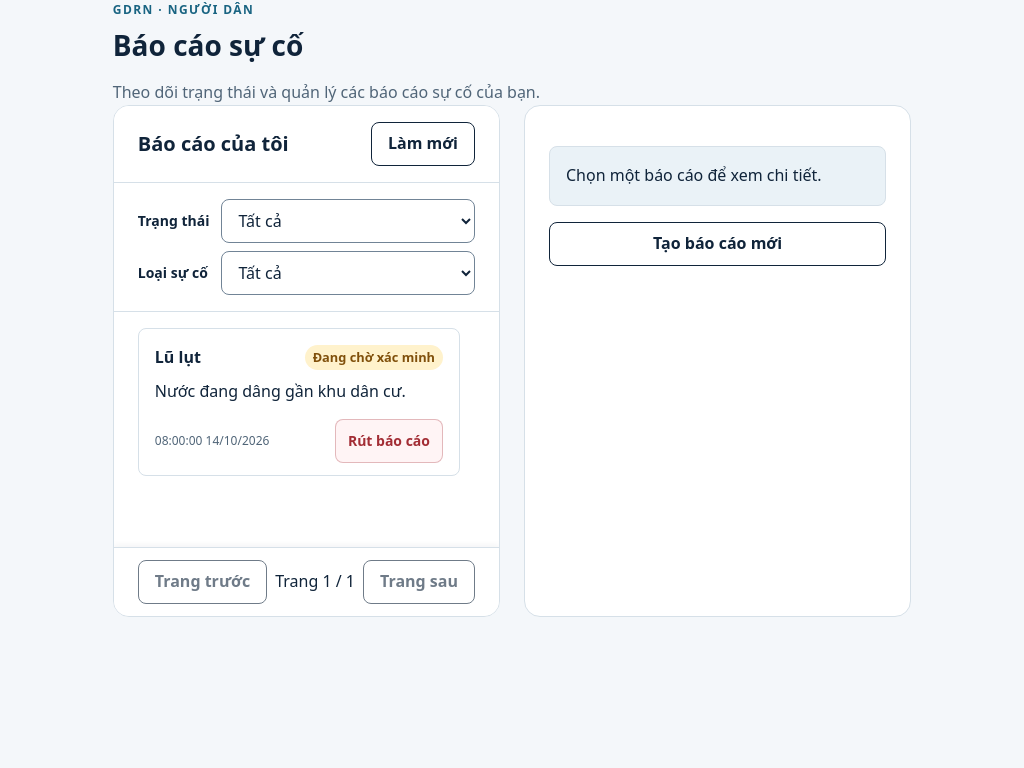
Test: ReportingCitizenPage › does not withdraw a report when confirmation is cancelled
Check: the text "Nước đang dâng gần khu dân cư." is shown, box 155,379 -> 443,403
Click the button "Rút báo cáo" at (389, 441), box 335,419 -> 443,463
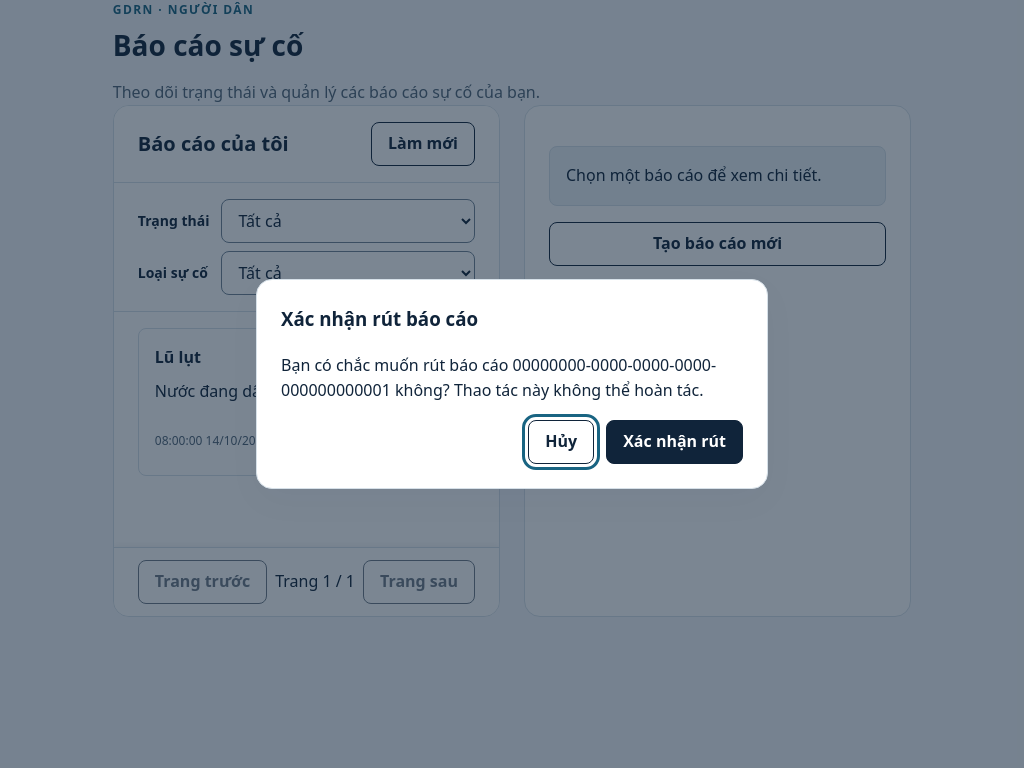
Check: the dialog is shown, box 256,279 -> 768,489
Click the button "Hủy" at (561, 442), box 528,420 -> 594,464
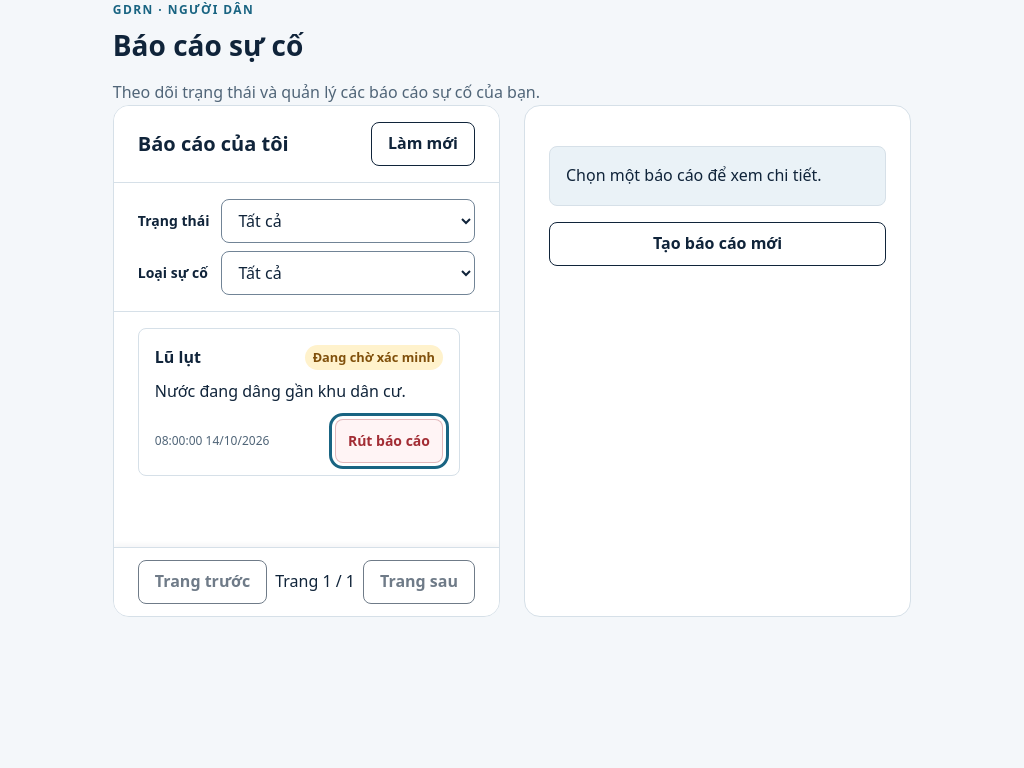
Check: the dialog is gone
